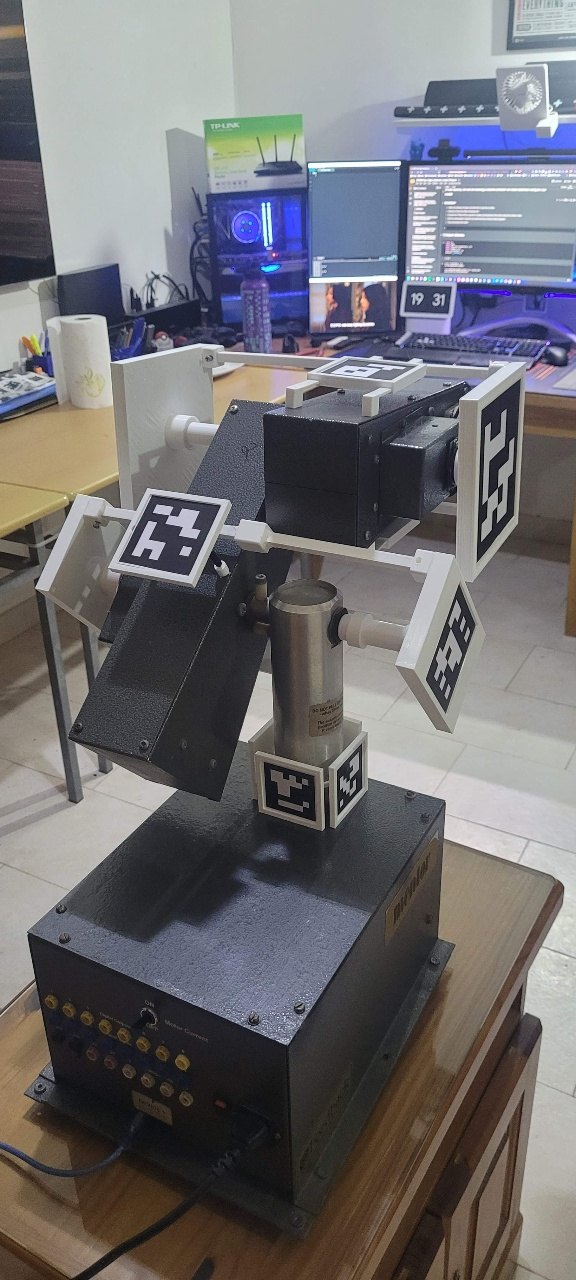Robot: (37, 366, 576, 1201)
